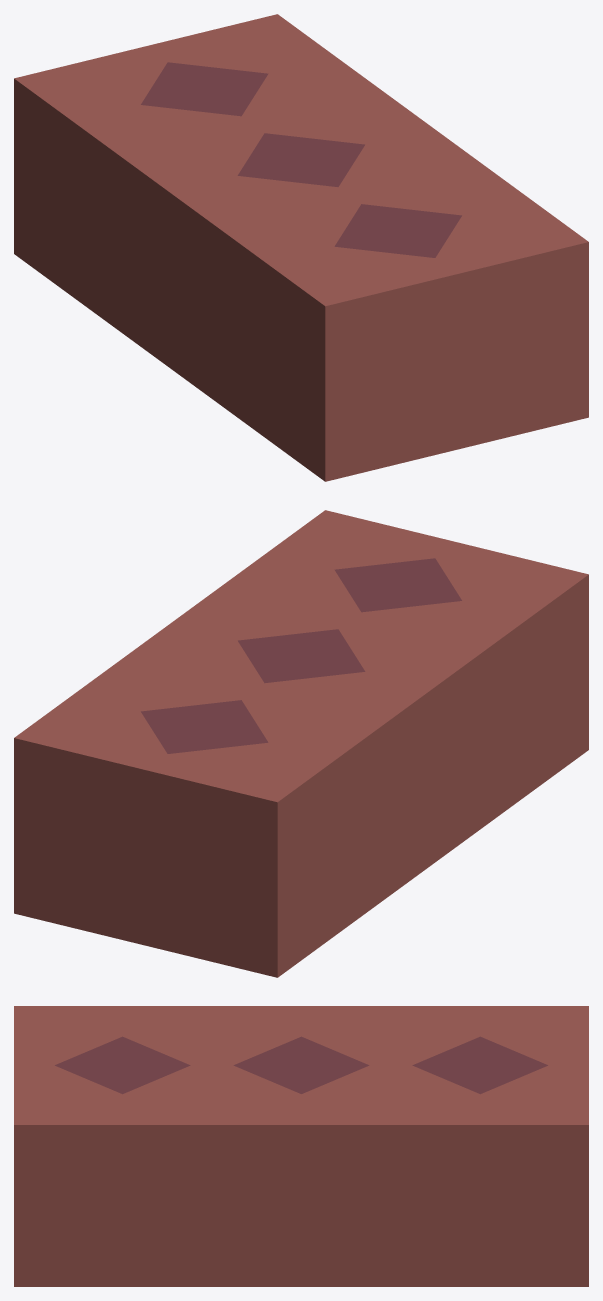
Rendered from construction-brick-holes.glb.
The picture shows the model from 3 angles, top to bottom: view 1: azimuth 30°, elevation 25°; view 2: azimuth 150°, elevation 25°; view 3: azimuth 270°, elevation 25°; orthographic projection. The views are drawn at different scales.
Parts seen in each view (by area): view 1: brick-holes; view 2: brick-holes; view 3: brick-holes.
Boxes of the visible parts, x1=… form: brick-holes: x1=14, y1=14, x2=588, y2=481; brick-holes: x1=14, y1=510, x2=588, y2=977; brick-holes: x1=14, y1=1006, x2=588, y2=1286.
Bounding box in the file's own units: 0.11 × 0.07 × 0.225.
